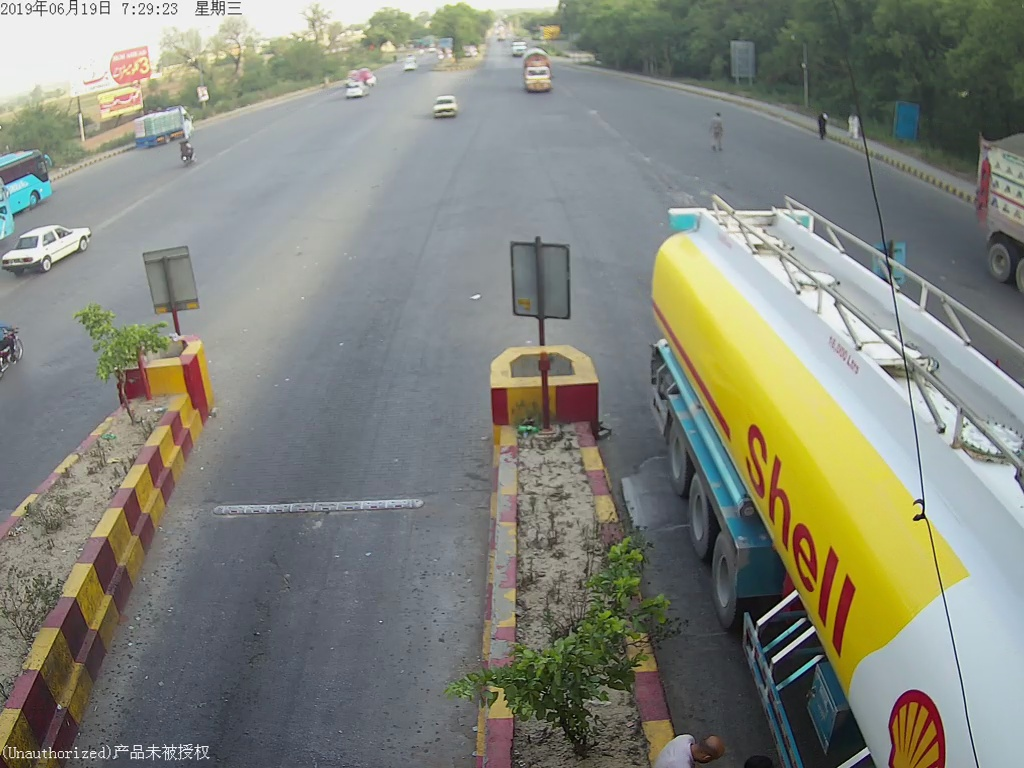Cat-1: (427, 91, 464, 124)
